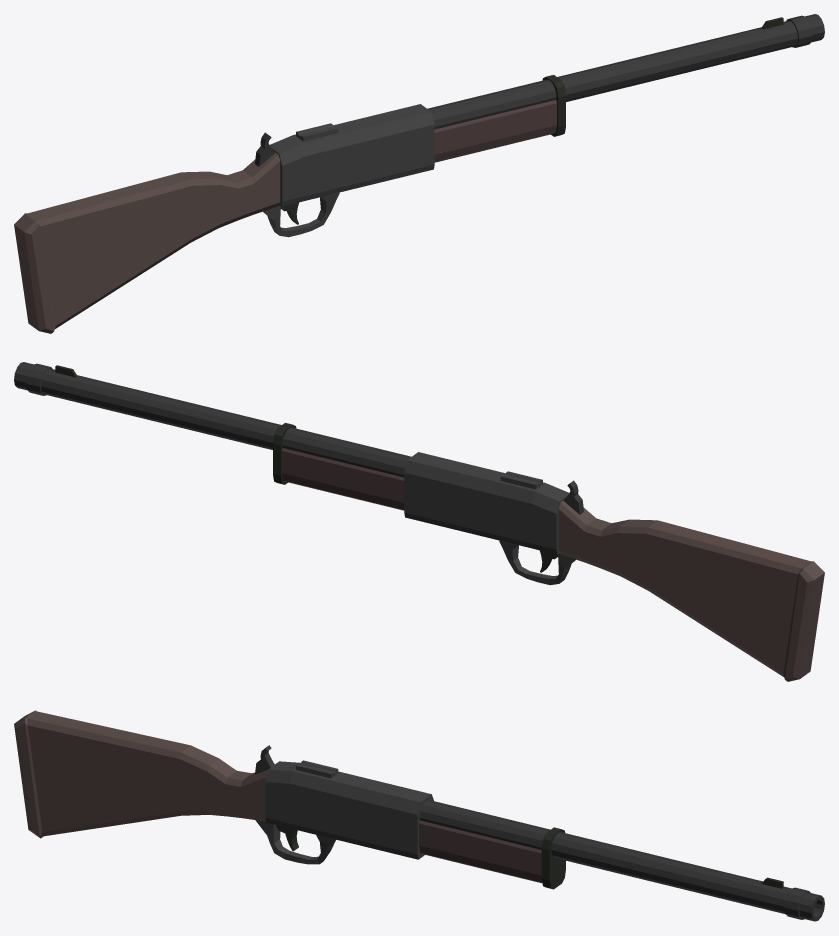
Rendered from quaternius-ultimate-gun-pack-july-shotgun-4.glb.
The picture shows the model from 3 angles, top to bottom: view 1: azimuth 30°, elevation 25°; view 2: azimuth 150°, elevation 25°; view 3: azimuth 330°, elevation 25°; orthographic projection.
Visible parts, largest first — view 1: Shotgun_4; view 2: Shotgun_4; view 3: Shotgun_4.
Boxes of the visible parts, bbox=[...] form: Shotgun_4: bbox=[14, 14, 824, 333]; Shotgun_4: bbox=[14, 362, 824, 681]; Shotgun_4: bbox=[14, 710, 824, 921].
Size of the model in its own units: 5.45 by 0.9266 by 0.1995.
Materials: 1 (1 with a texture image).
